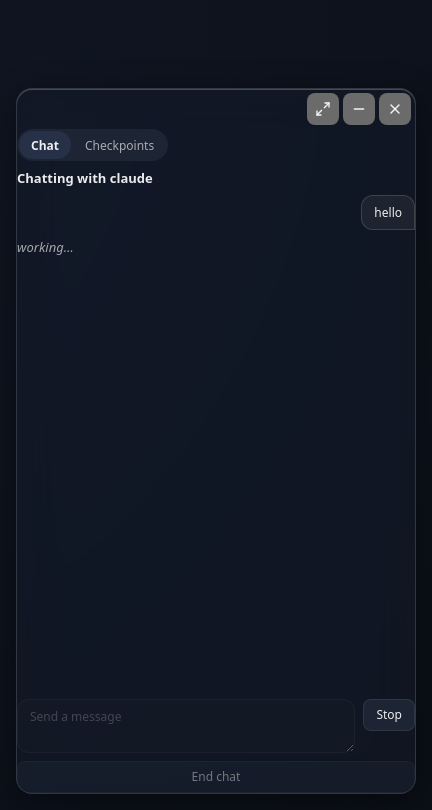
Test: the pill shows a working indicator while a turn is running
Click the button with test id "chat-dock-minimize" at (359, 109), box [343, 93, 375, 125]
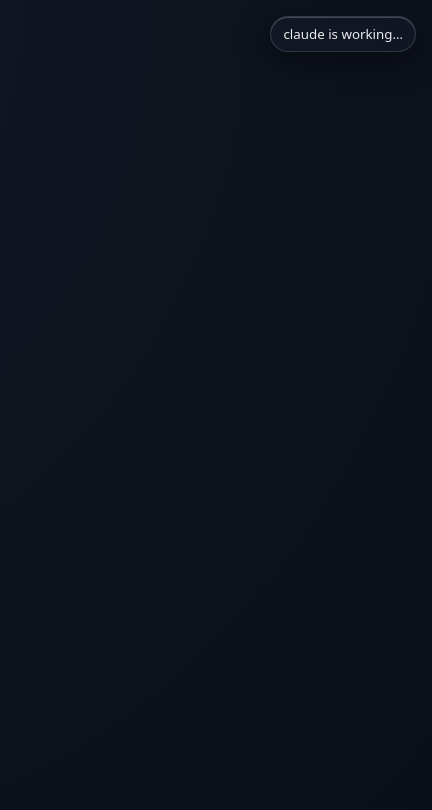
Result: the button with test id "chat-modal-pill" shows "claude is working" at [270, 16, 416, 52]
